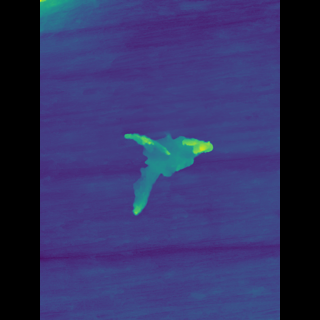Loch: (129, 122, 200, 221)
